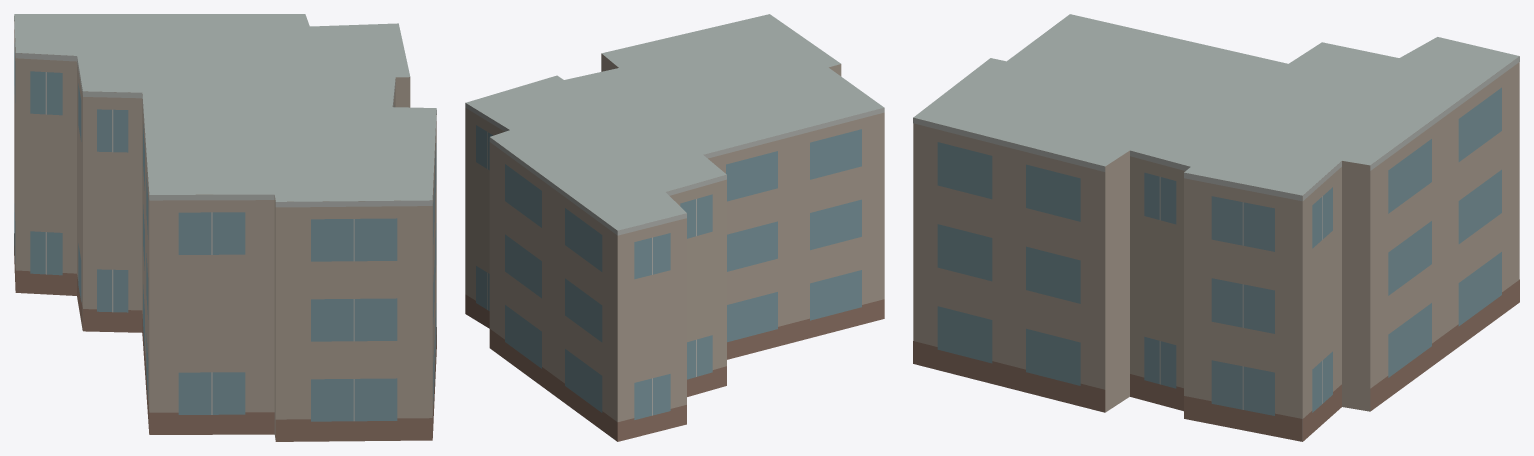
Rendered from survey-upis-32586983.glb.
3 renders of one model, left to right at view 1: azimuth 30°, elevation 25°; view 2: azimuth 150°, elevation 25°; view 3: azimuth 270°, elevation 25°, orthographic. The views are drawn at different scales.
Parts seen in each view (by area): view 1: survey-upis-32586983.tmp; view 2: survey-upis-32586983.tmp; view 3: survey-upis-32586983.tmp.
Boxes of the visible parts, x1=… form: survey-upis-32586983.tmp: x1=14, y1=14, x2=436, y2=441; survey-upis-32586983.tmp: x1=465, y1=14, x2=884, y2=441; survey-upis-32586983.tmp: x1=913, y1=14, x2=1519, y2=441.
Bounding box in the file's own units: 16.62 × 10.5 × 23.45.
